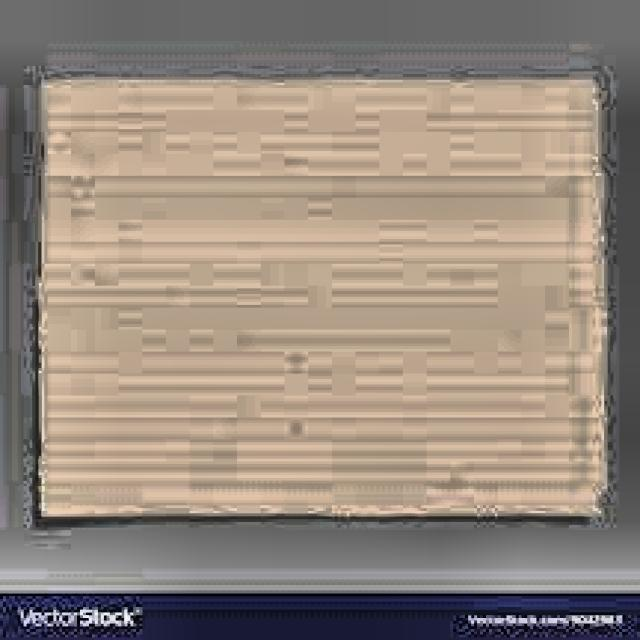cardboard: (35, 72, 610, 520)
